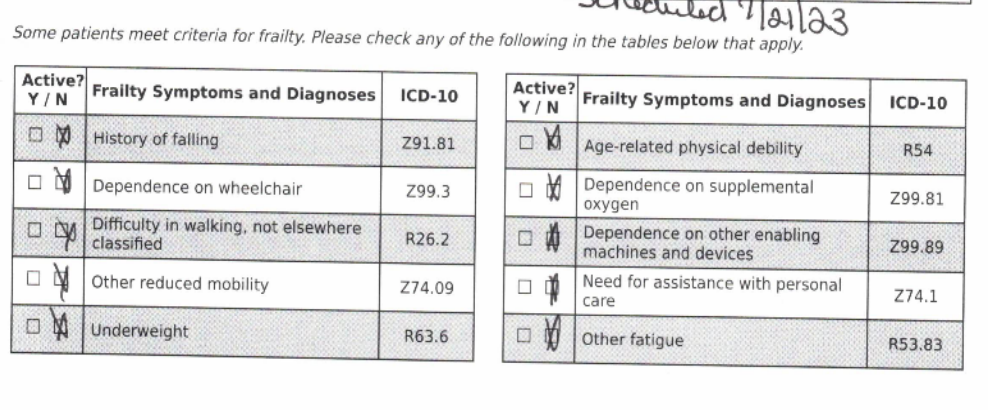checked: (49, 261, 75, 301), (540, 315, 565, 355), (46, 307, 72, 344), (536, 124, 568, 154), (541, 171, 568, 206), (540, 220, 567, 255), (53, 217, 79, 252), (540, 270, 563, 306), (50, 121, 76, 151), (51, 166, 74, 198)
